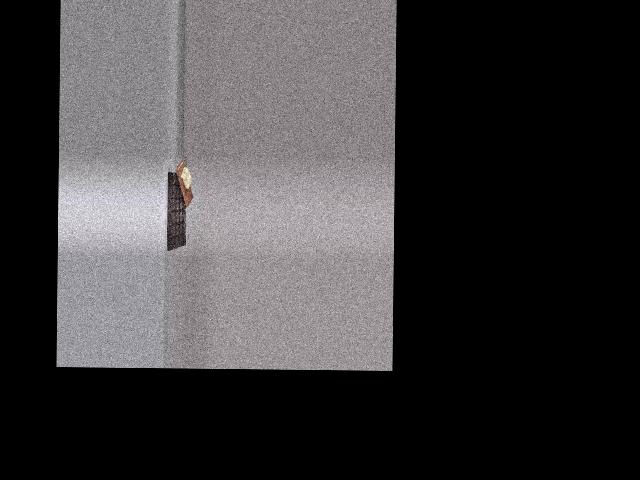chocolate: (164, 166, 189, 251)
